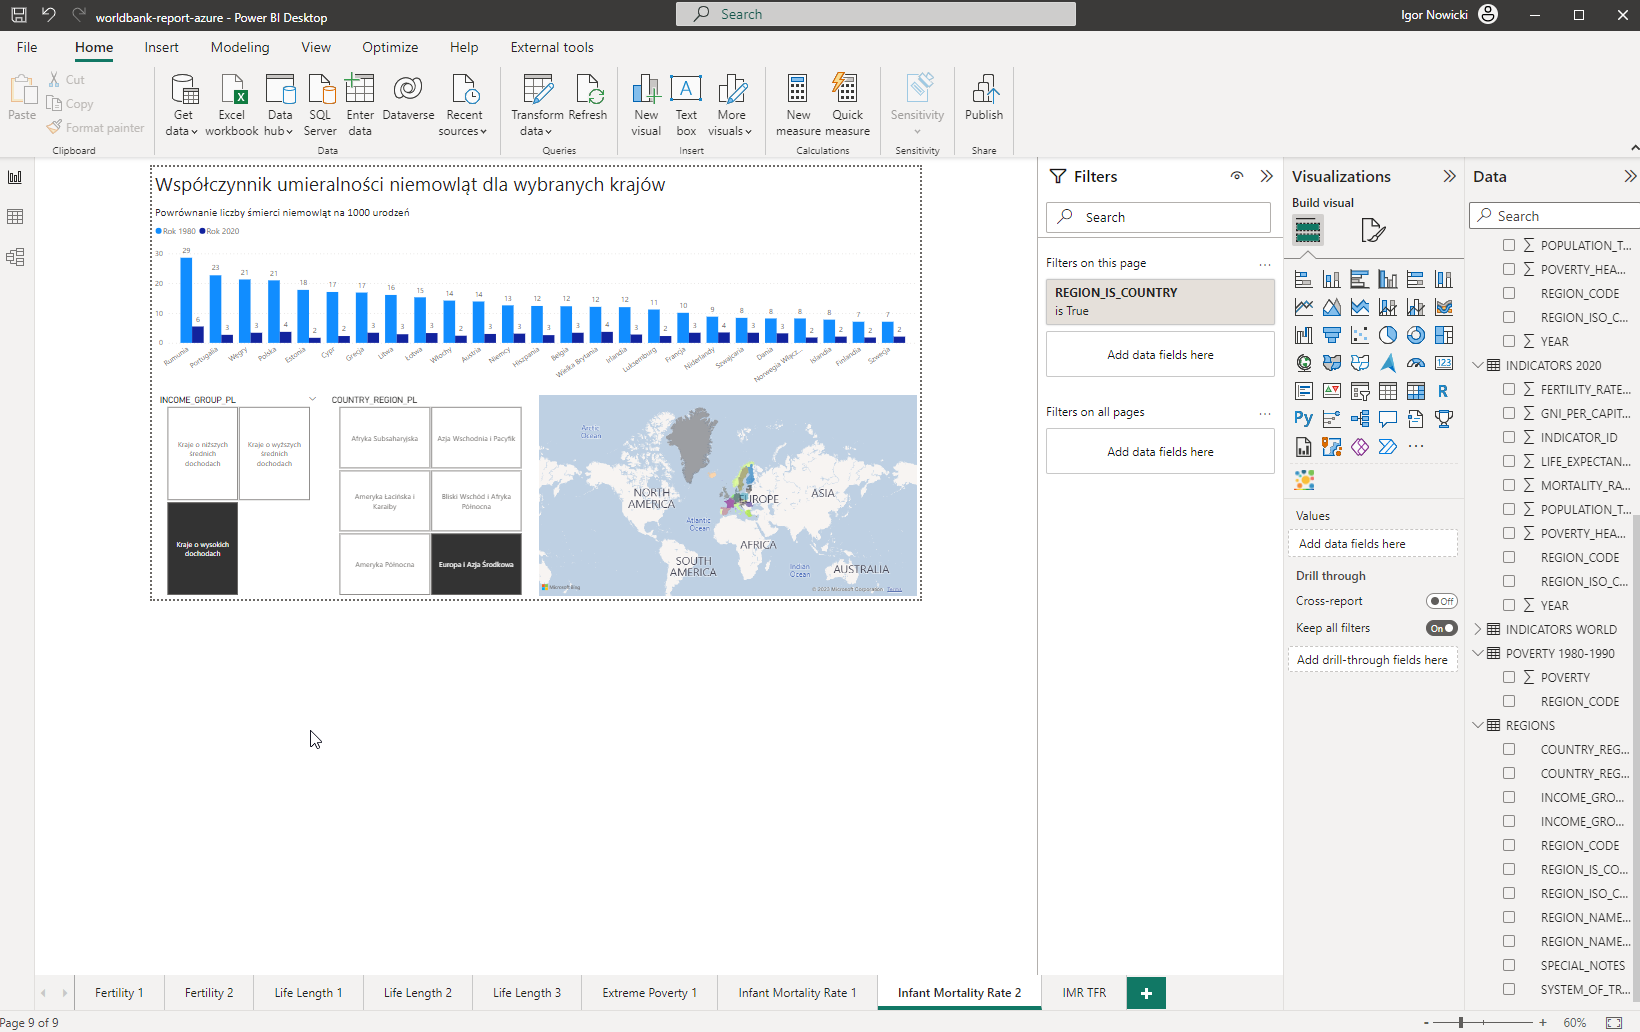

The dashboard page shown, as its layout file describes it:
{"tool":"powerbi","page":{"name":"Infant Mortality Rate 2","canvas":[1280,720],"ordinal":7},"visuals":[{"type":"clusteredColumnChart","title":"Porównanie liczby śmierci niemowląt na 1000 urodzeń","fields":{"Category":["REGIONS.REGION_NAME_PL"],"Y":["Sum(INDICATORS 1980.MORTALITY_RATE_INFANT_PER_1000_LIVE_BIRTHS)","Sum(INDICATORS 2020.MORTALITY_RATE_INFANT_PER_1000_LIVE_BIRTHS)"]},"box":[0,62.5,1280,490.5],"z":0},{"type":"textbox","box":[0,0,1280,63.1],"z":2000},{"type":"slicer","fields":{"Values":["REGIONS.INCOME_GROUP_PL"]},"box":[0,553.3,457.5,167.6],"z":3000},{"type":"slicer","fields":{"Values":["REGIONS.COUNTRY_REGION_PL"]},"box":[457.5,553.3,822.9,167.6],"z":4000}]}

Visuals, with their boxes on the page's 1280x720 design canvas (x1, y1, x2, y2). These are canvas units, not pixel positions in the 1640x1032 screenshot, which may show the page scaled, cropped or inside an application window:
"Porównanie liczby śmierci niemowląt na 1000 urodzeń" clusteredColumnChart: bbox(0, 62, 1280, 553)
textbox: bbox(0, 0, 1280, 63)
slicer - REGIONS.INCOME_GROUP_PL: bbox(0, 553, 458, 721)
slicer - REGIONS.COUNTRY_REGION_PL: bbox(458, 553, 1280, 721)
